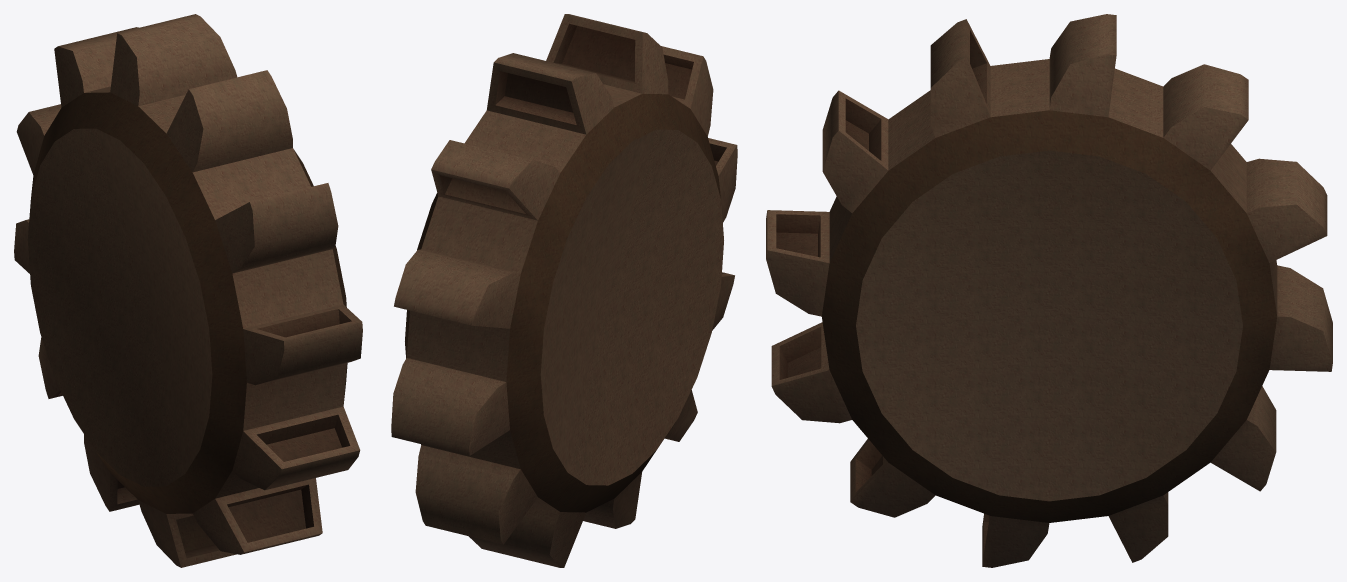
The model's file is bucket-wheel.glb.
3 views of the same model, side by side, from view 1: azimuth 30°, elevation 25°; view 2: azimuth 150°, elevation 25°; view 3: azimuth 270°, elevation 25° (orthographic). The views are drawn at different scales.
Visible parts, largest first — view 1: Excavator_Bucket-Wheel; view 2: Excavator_Bucket-Wheel; view 3: Excavator_Bucket-Wheel.
Boxes of the visible parts, x1,y1,x2,y2 form: Excavator_Bucket-Wheel: (14,14,362,567); Excavator_Bucket-Wheel: (391,14,737,567); Excavator_Bucket-Wheel: (766,14,1332,567).
Size of the model in its own units: 10.91 by 37.34 by 37.34.
Materials: 2 (2 with a texture image).
